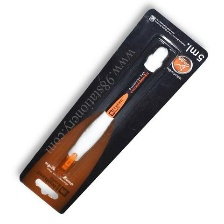correction_fluid: (51, 43, 176, 183)
